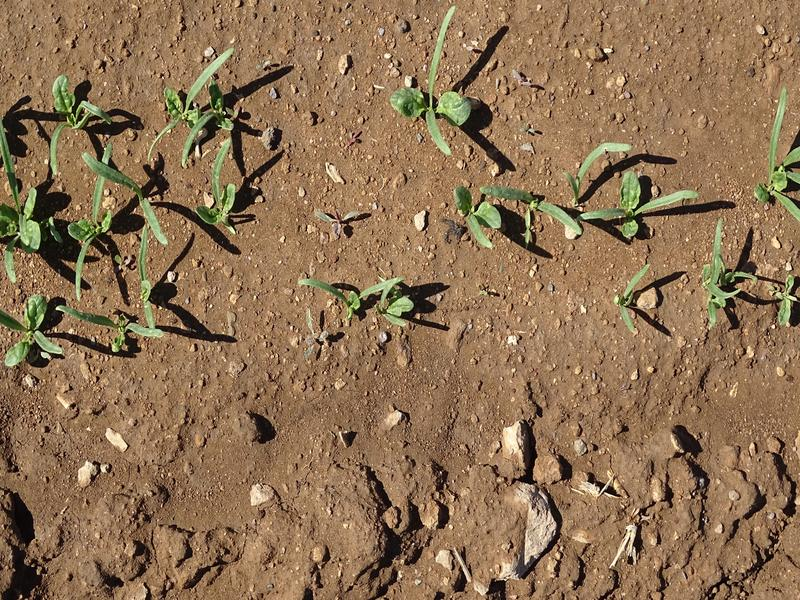Espinaca: (2, 44, 246, 371), (434, 158, 699, 250), (398, 17, 483, 142), (302, 265, 431, 328), (764, 117, 800, 227), (606, 268, 650, 334), (709, 233, 736, 320), (774, 277, 797, 329)
